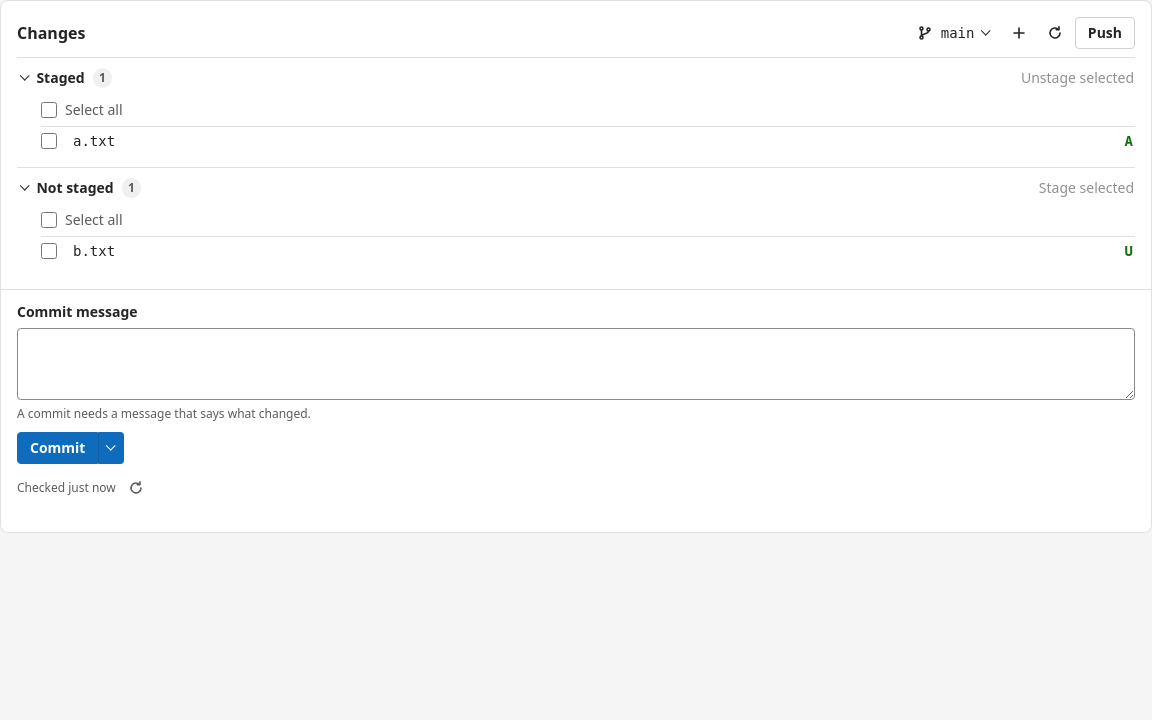
Scenario: no input on a commit, its menu open carries its own validation rule
The image size is (1152, 720).
Click the button named "More ways to commit" at [111, 448], box [98,432,124,464]
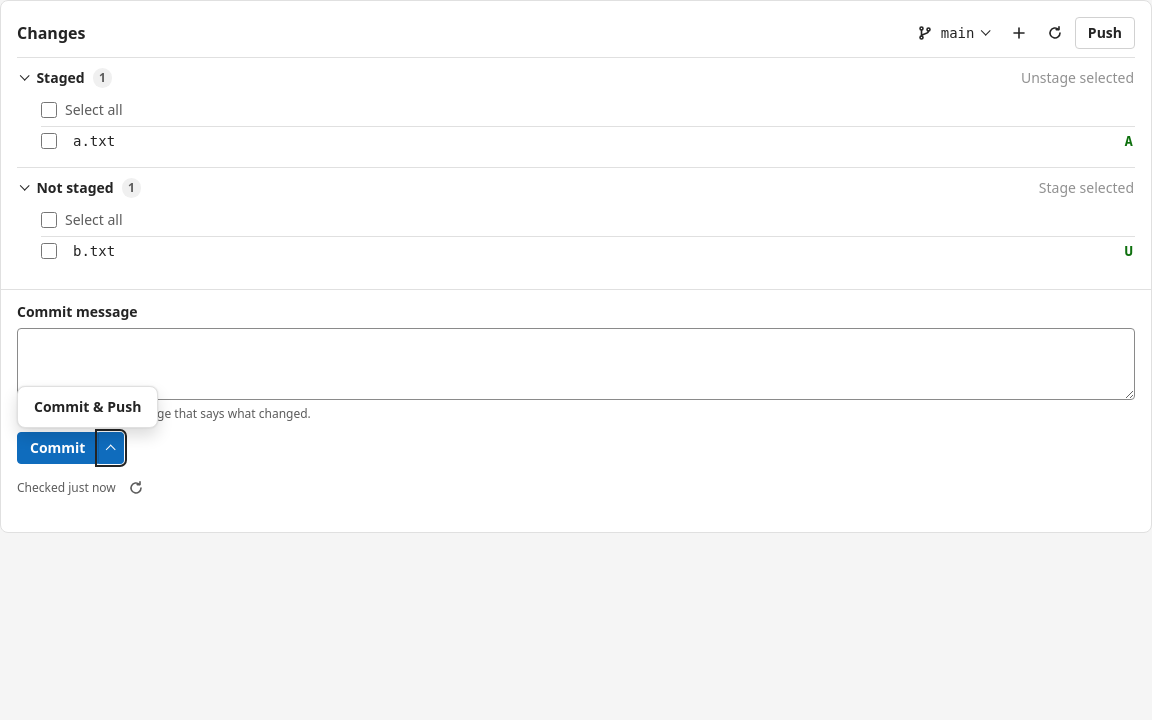
expect the number of forms is 1: met, box [17,302,1135,464]
expect the button "Commit & Push" is shown: met, box [22,391,153,423]
